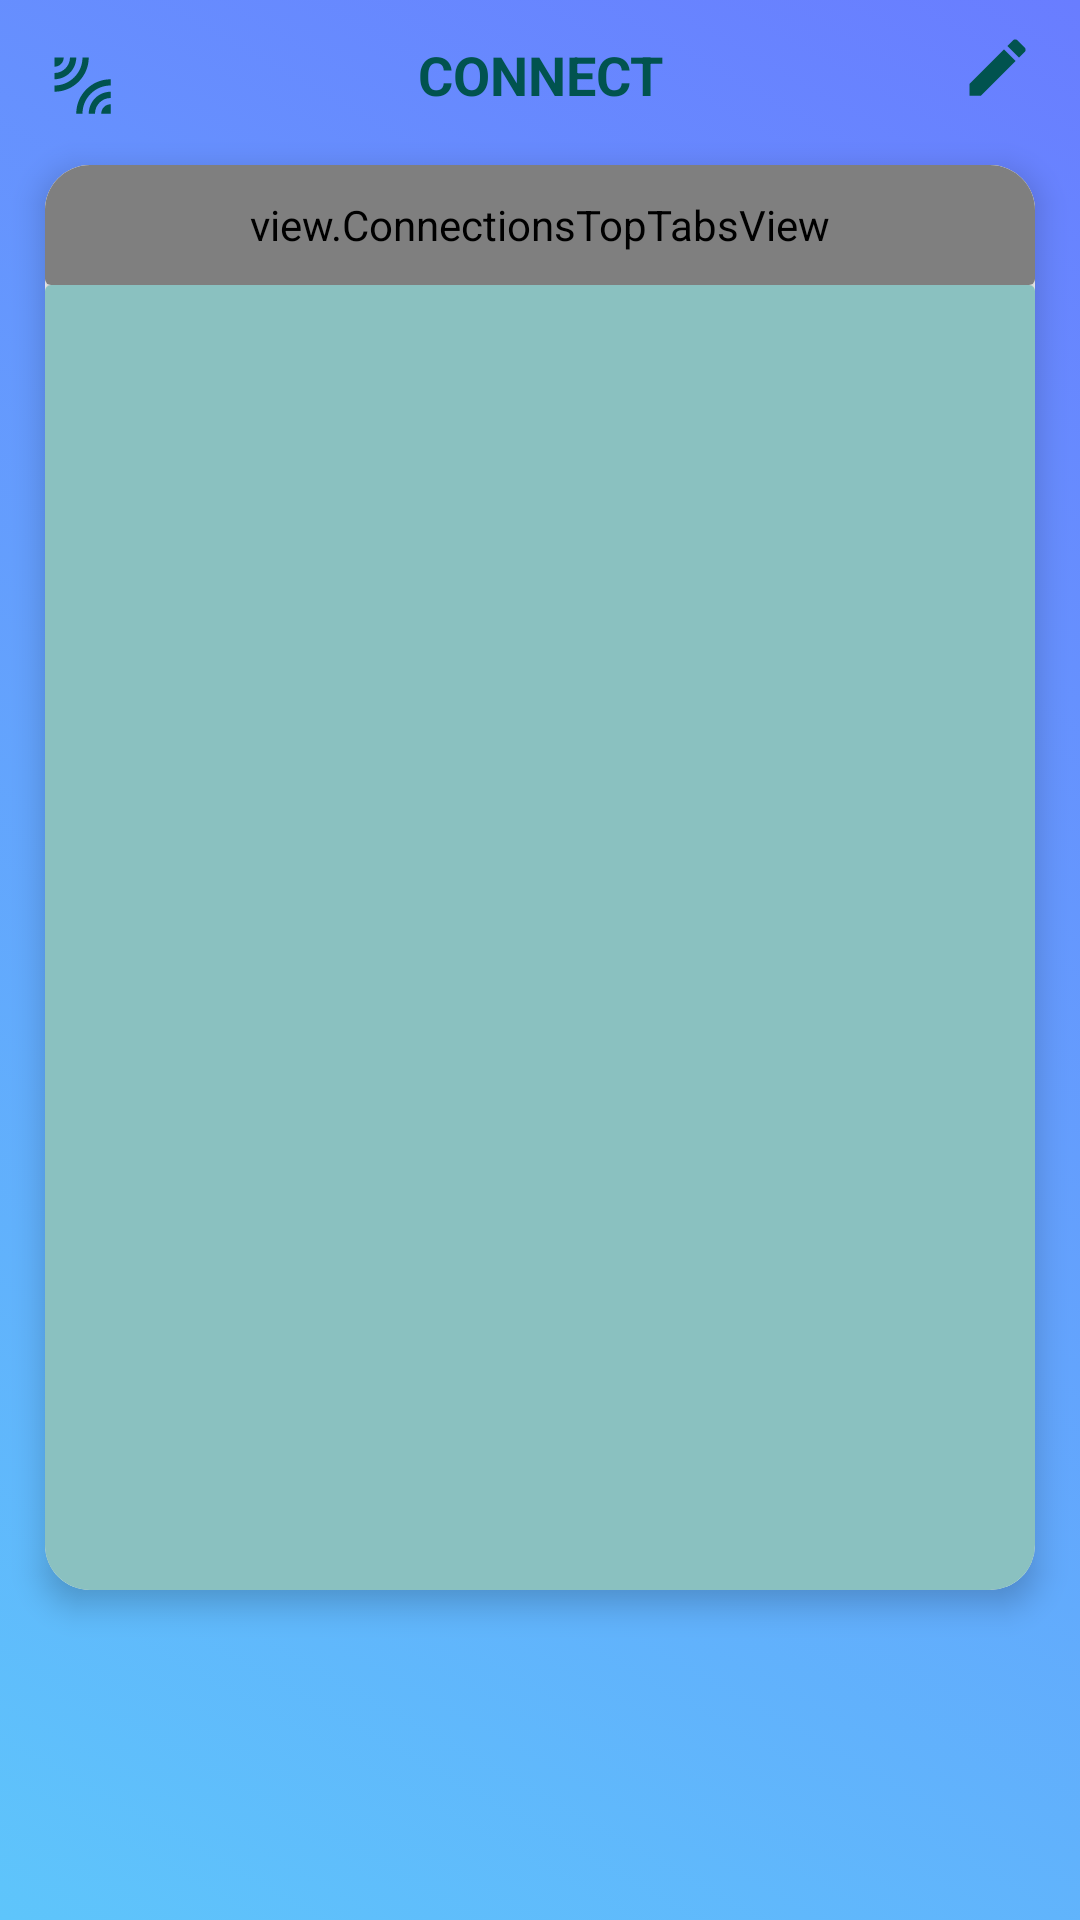

Named icons in this screenshot (1080w x 1920h) and their centers, (x,y):
edit: (997,67)
